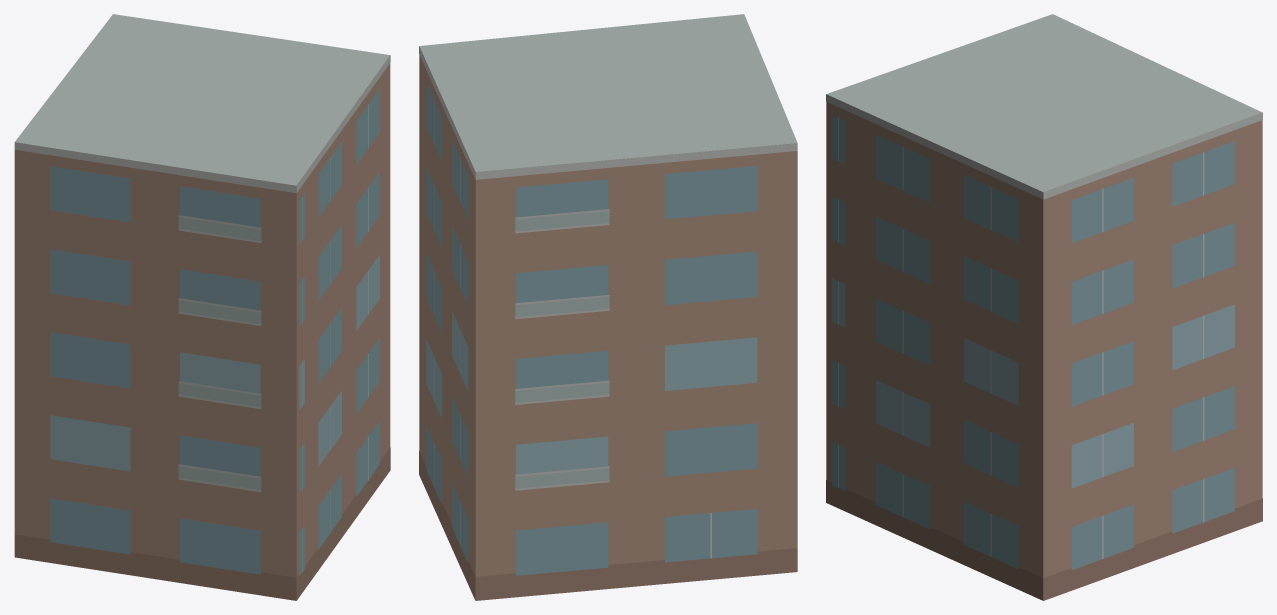
File: survey-upis-32694737.glb
The picture shows the model from 3 angles, left to right: view 1: azimuth 30°, elevation 25°; view 2: azimuth 150°, elevation 25°; view 3: azimuth 270°, elevation 25°; orthographic projection. The views are drawn at different scales.
Visible parts, largest first — view 1: survey-upis-32694737.tmp; view 2: survey-upis-32694737.tmp; view 3: survey-upis-32694737.tmp.
Part boxes in pixels (bbox=[...]): survey-upis-32694737.tmp: bbox=[14, 14, 390, 600]; survey-upis-32694737.tmp: bbox=[419, 14, 797, 600]; survey-upis-32694737.tmp: bbox=[826, 14, 1262, 600].
Bounding box in the file's own units: 12.64 × 13.5 × 13.08.
